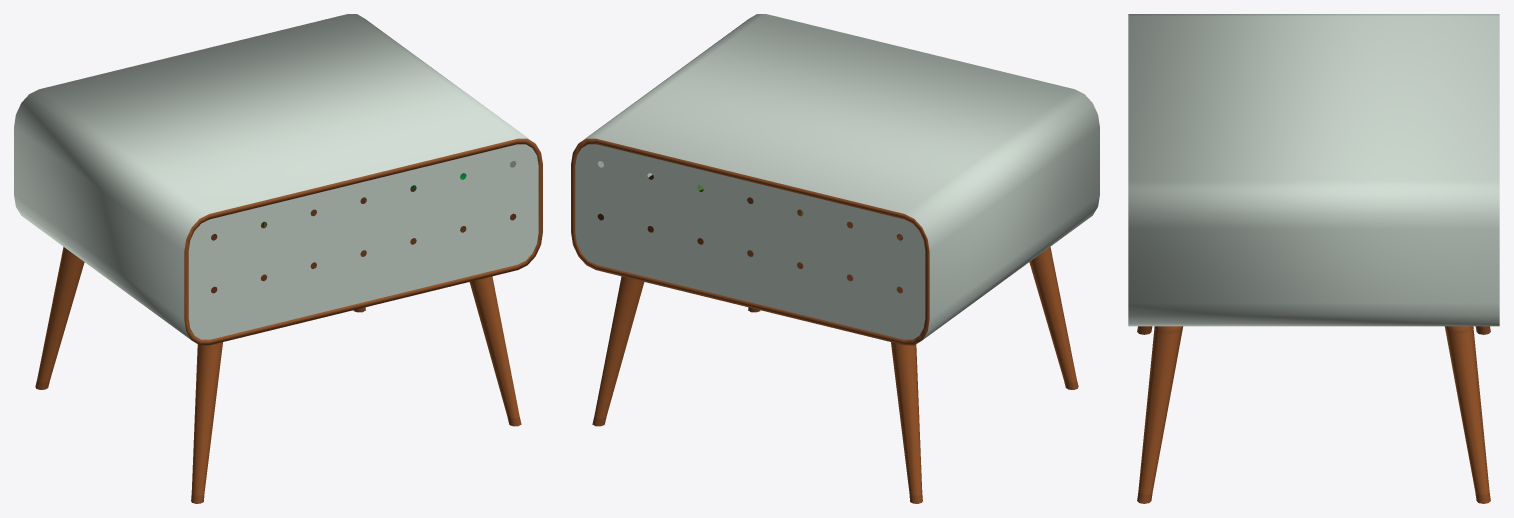
The model's file is CinziaGabrielPH-Eco_Table.gltf.
The picture shows the model from 3 angles, left to right: view 1: azimuth 30°, elevation 25°; view 2: azimuth 150°, elevation 25°; view 3: azimuth 270°, elevation 25°; orthographic projection. The views are drawn at different scales.
Visible parts, largest first — view 1: eco.table; view 2: eco.table; view 3: eco.table.
Boxes of the visible parts, x1,y1,x2,y2 form: eco.table: [14, 14, 542, 503]; eco.table: [571, 14, 1099, 503]; eco.table: [1128, 14, 1499, 503].
Size of what is drawn, in the model's own units: 1.09 by 0.85 by 0.9.
Materials: 3 (2 with a texture image).
